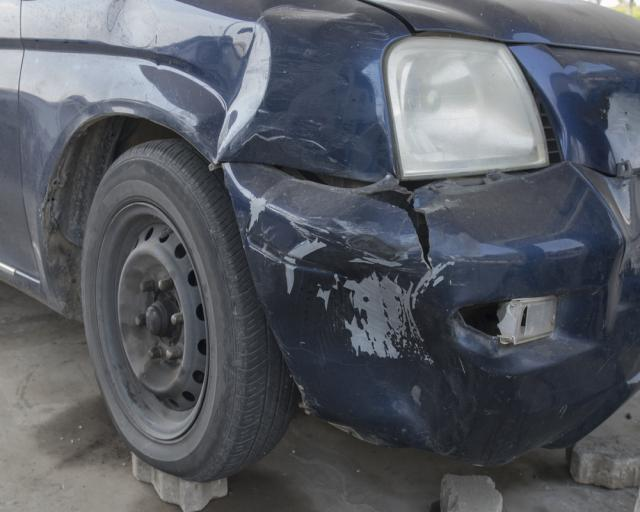crack: (361, 188, 434, 277)
dent: (270, 249, 473, 455), (141, 19, 273, 156), (560, 81, 639, 240)
